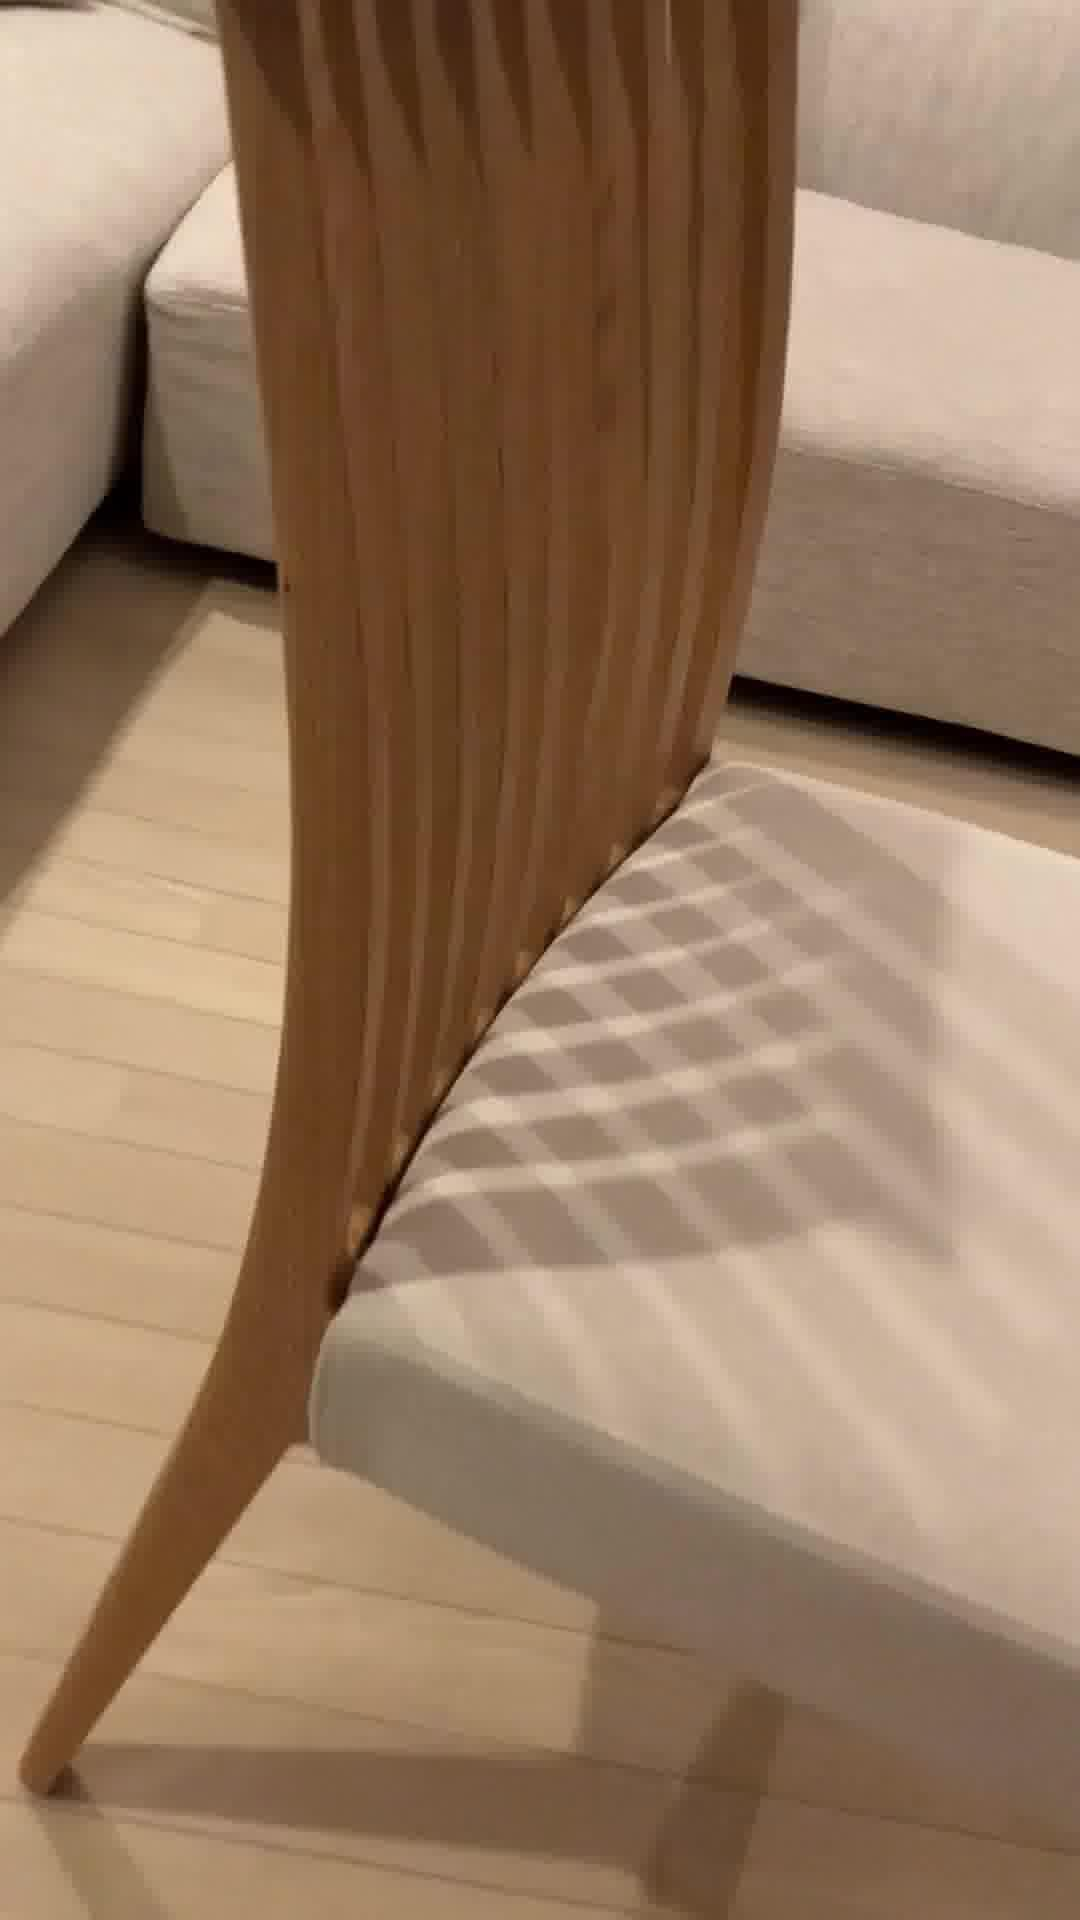takumikan-chair: (20, 0, 1080, 1836)
